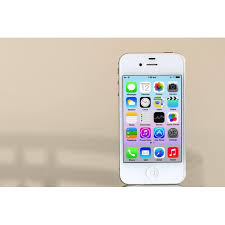iphone: (114, 48, 189, 185)
iphone4: (115, 47, 190, 184)
